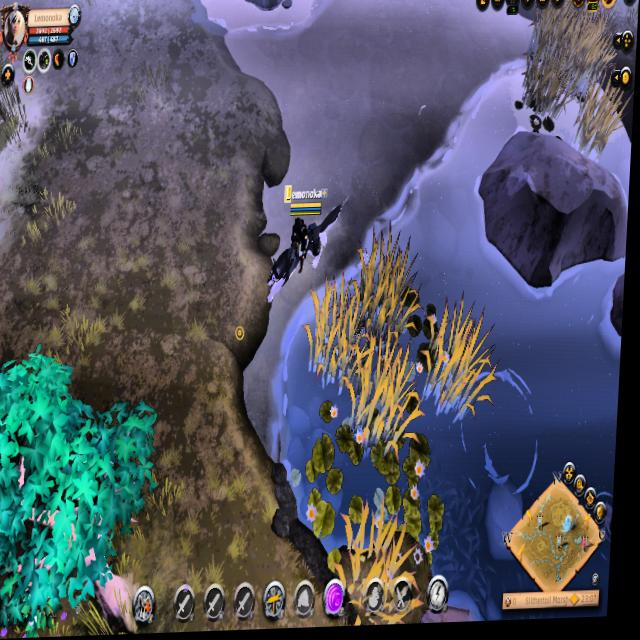fish: (457, 352, 553, 515)
